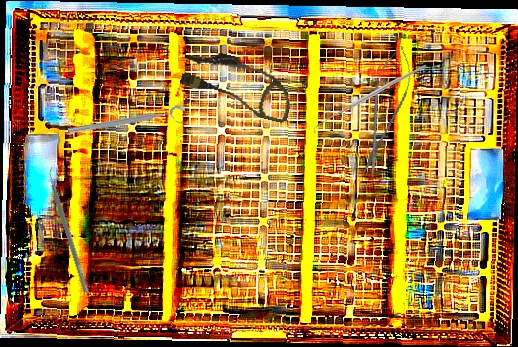Cannula: (176, 45, 299, 124)
Fixation Ring: (67, 103, 188, 145)
Hook Surgical: (313, 63, 427, 135)
Micro Scissor: (350, 41, 420, 183)
Spatula Surgical: (43, 165, 95, 294)
